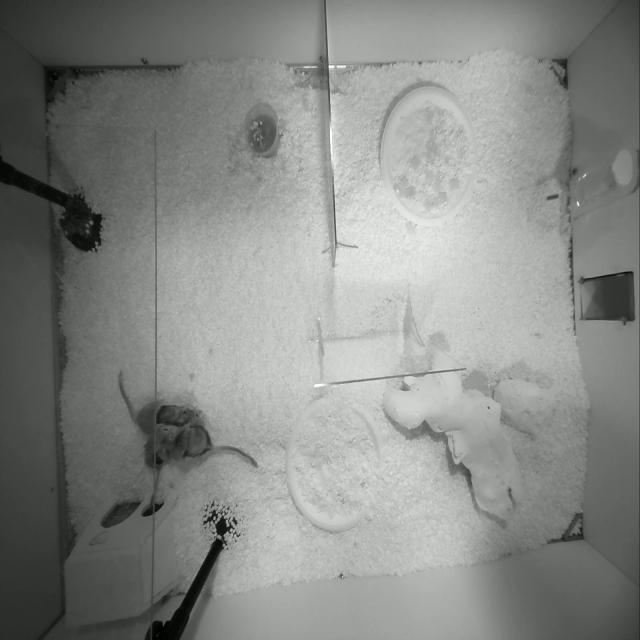adult_back: (155, 423, 258, 466)
adult_front: (118, 371, 203, 433)
pup_v_stripe: (144, 434, 163, 468)
